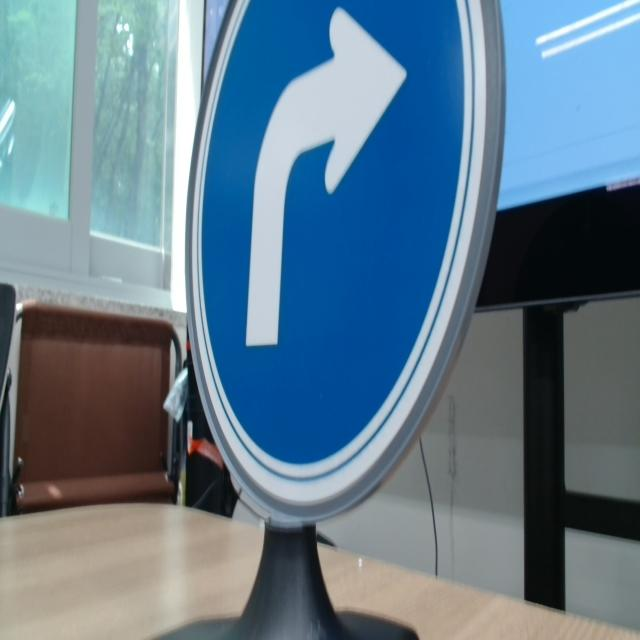right_dierection: (177, 0, 508, 530)
